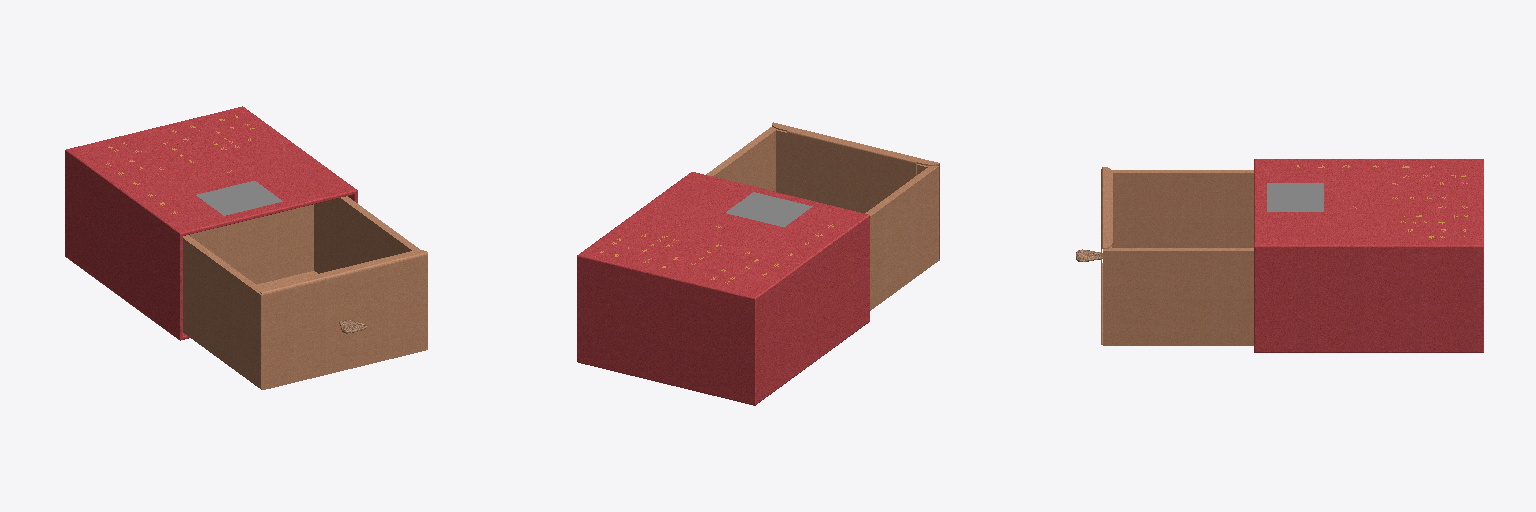
The picture shows the model from 3 angles: view 1: azimuth 30°, elevation 25°; view 2: azimuth 150°, elevation 25°; view 3: azimuth 270°, elevation 25°; orthographic projection.
Parts seen in each view (by area): view 1: DirectConnectNode_11_DC_Shell, Plane012, Rectangle002; view 2: DirectConnectNode_11_DC_Shell, Plane012, Rectangle002; view 3: DirectConnectNode_11_DC_Shell, Plane012, Rectangle002.
Part boxes in pixels (bbox=[...]): DirectConnectNode_11_DC_Shell: bbox=[65, 106, 427, 389]; Plane012: bbox=[149, 138, 333, 215]; Rectangle002: bbox=[196, 181, 282, 215]; DirectConnectNode_11_DC_Shell: bbox=[577, 122, 939, 405]; Plane012: bbox=[633, 180, 816, 258]; Rectangle002: bbox=[726, 192, 812, 226]; DirectConnectNode_11_DC_Shell: bbox=[1076, 159, 1483, 352]; Plane012: bbox=[1270, 180, 1405, 237]; Rectangle002: bbox=[1267, 183, 1323, 211].
Size of the model in its own units: 121 by 70.16 by 239.
7 materials, 4 textured.